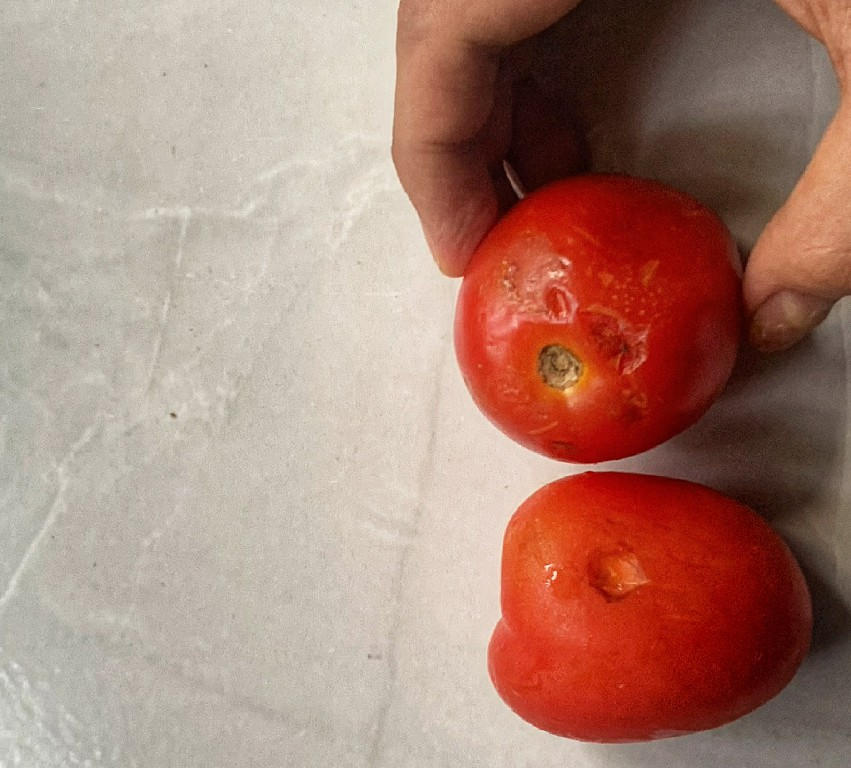NG: (488, 471, 813, 750), (448, 171, 752, 468)
